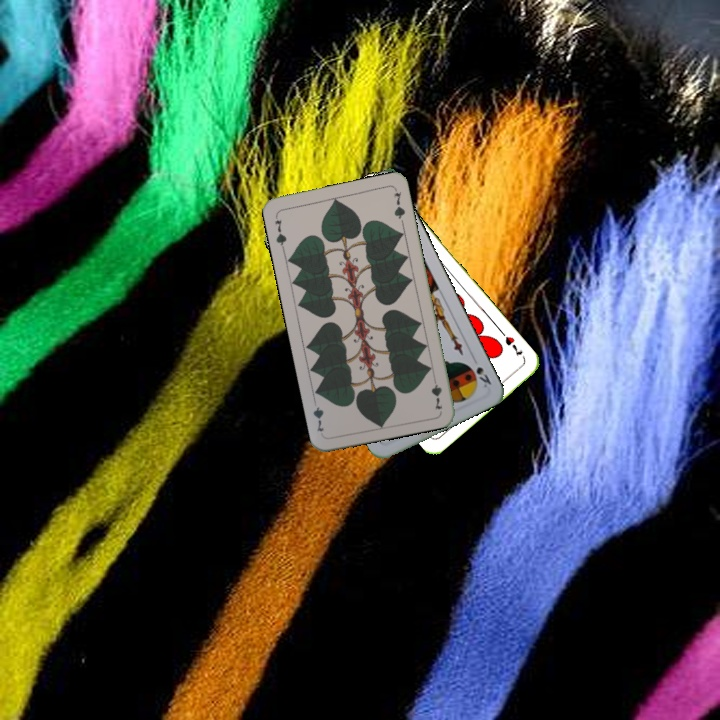G7: (270, 211, 289, 252), (427, 371, 445, 412)
H7: (501, 332, 525, 359)
SK: (468, 353, 494, 390)
